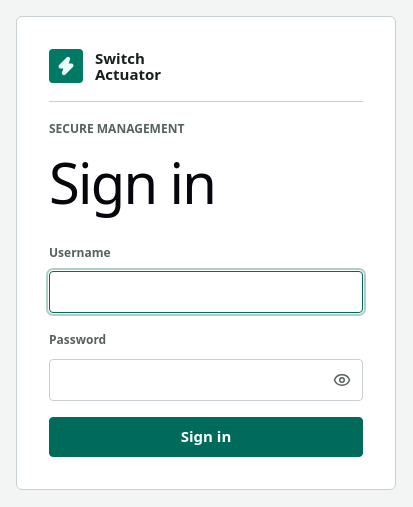
Test: LoginPage › reveals the password only through the explicit visibility control
Click the button named "Show password": click(342, 380) [322,360,362,400]
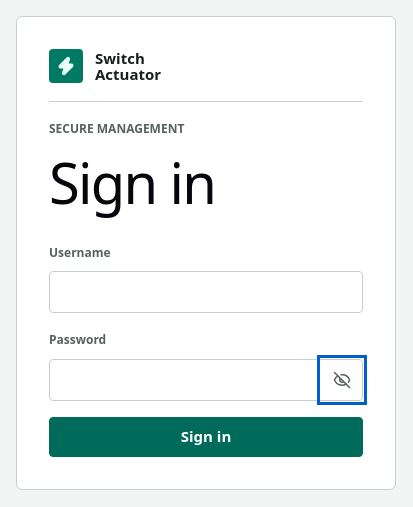
Check: the button named "Hide password" is shown, box [322,360,362,400]
